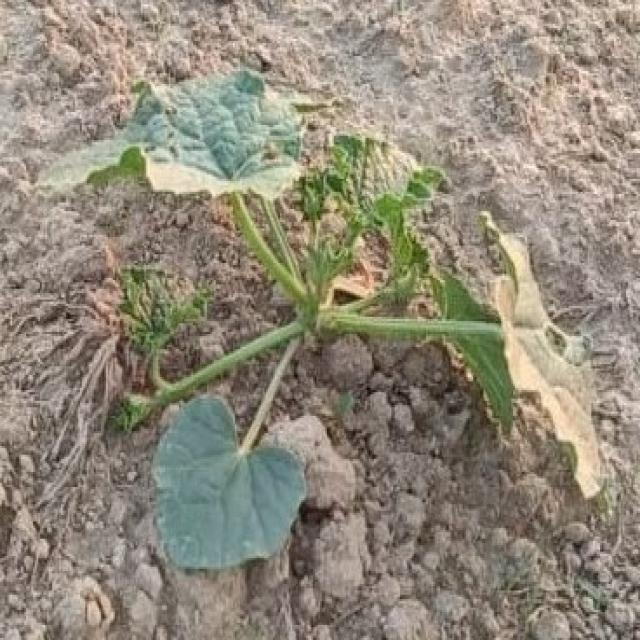plant: (44, 71, 601, 569)
